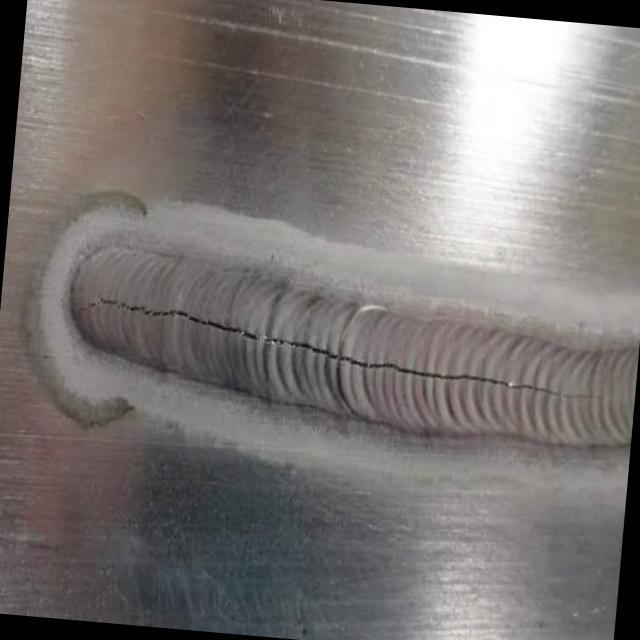defect: (71, 288, 612, 402)
